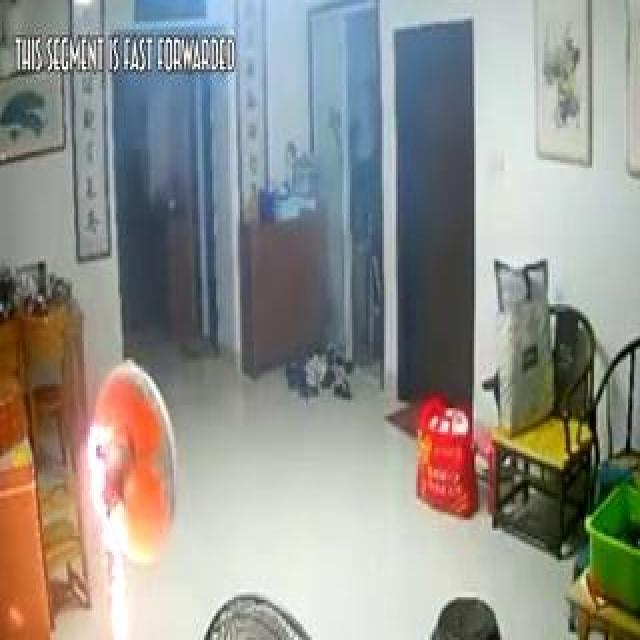Fire: (86, 392, 144, 608)
Smoke: (406, 364, 474, 520)
